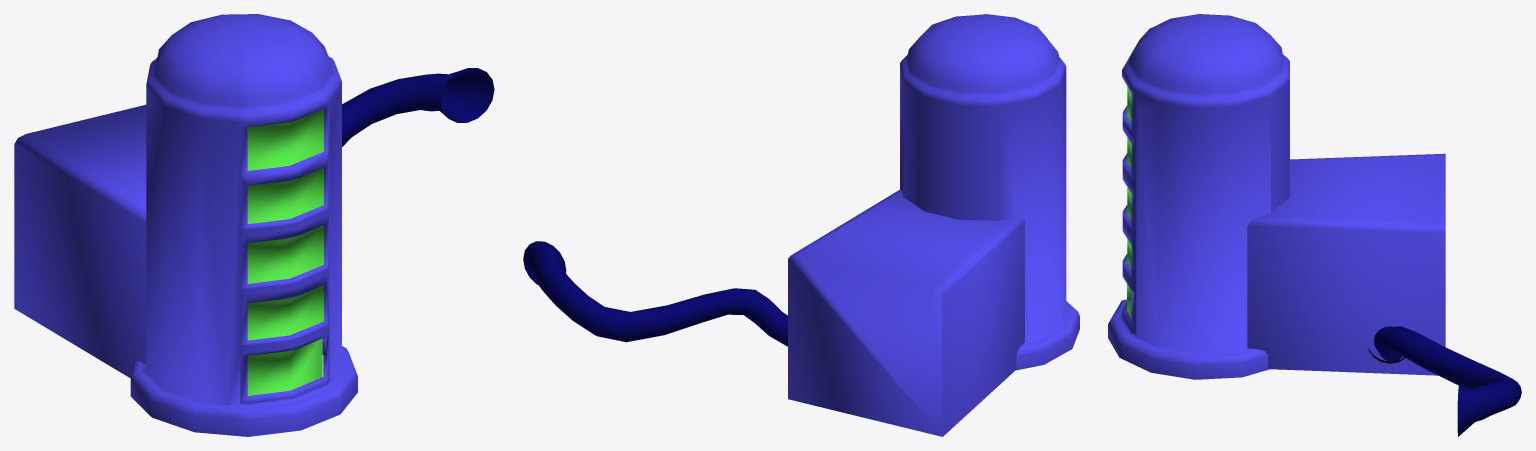
The model's file is Energy Bank with Animation.fbx.
3 renders of one model, left to right at view 1: azimuth 30°, elevation 25°; view 2: azimuth 150°, elevation 25°; view 3: azimuth 270°, elevation 25°, orthographic. The views are drawn at different scales.
Visible parts, largest first — view 1: Circle; view 2: Circle; view 3: Circle.
Part boxes in pixels (x1,y1,x2,y2): Circle: (14,14,494,436); Circle: (523,14,1079,436); Circle: (1108,14,1521,436).
Bounding box in the file's own units: 469 × 325 × 394.
